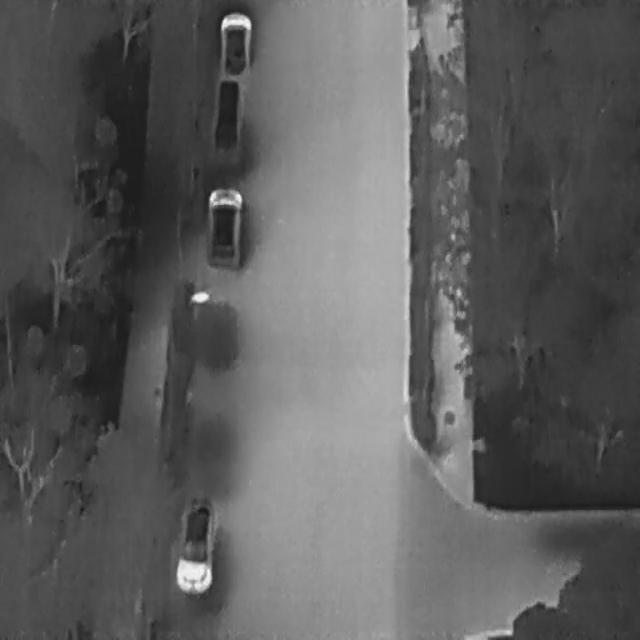Car: (173, 490, 217, 595), (203, 182, 244, 270), (210, 73, 243, 155), (215, 8, 251, 78)
